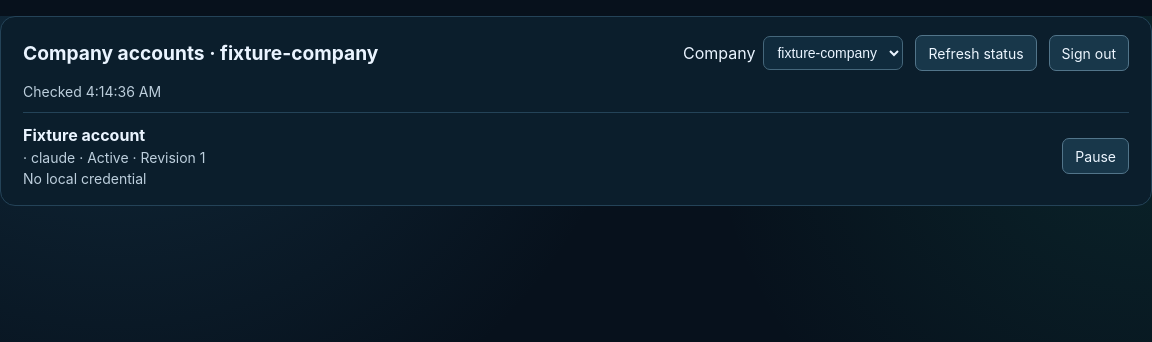
Test case: company accounts › clears the old inventory when the authority stops answering
Click the button "Refresh status".
click(976, 53)  # box [916, 35, 1037, 71]
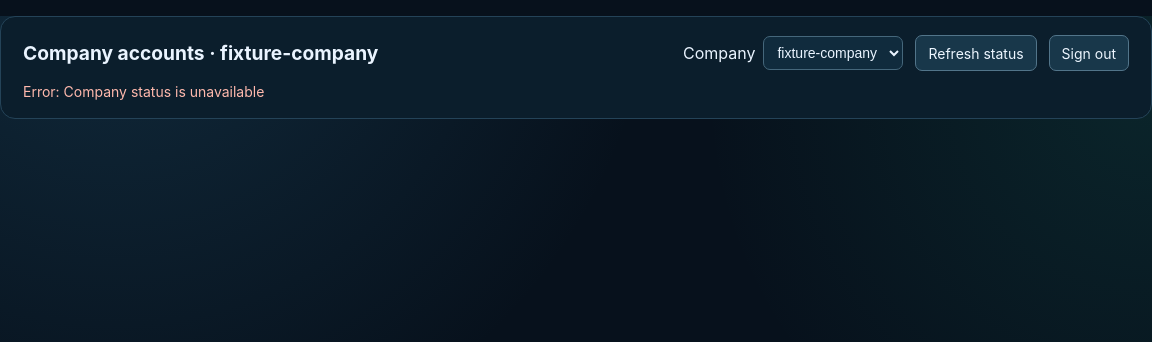
Check: the text "Fixture account" is gone
Check: the text "Company status is unavailable" is shown, box [23, 83, 264, 100]
